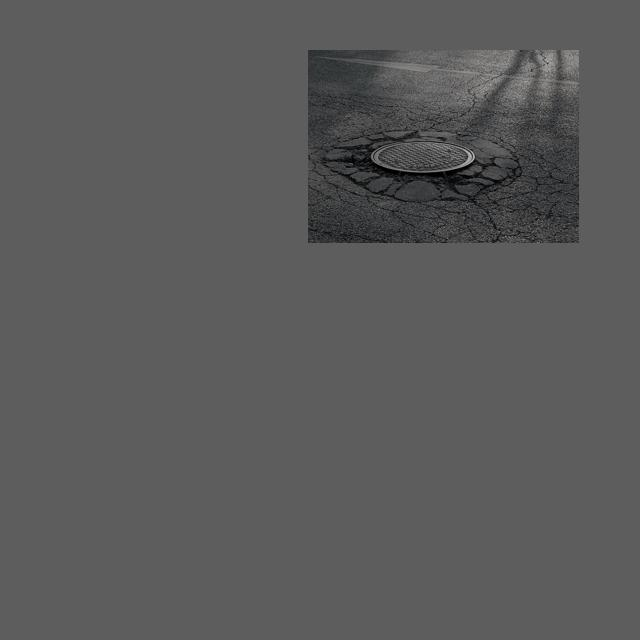circle: (341, 127, 527, 211)
